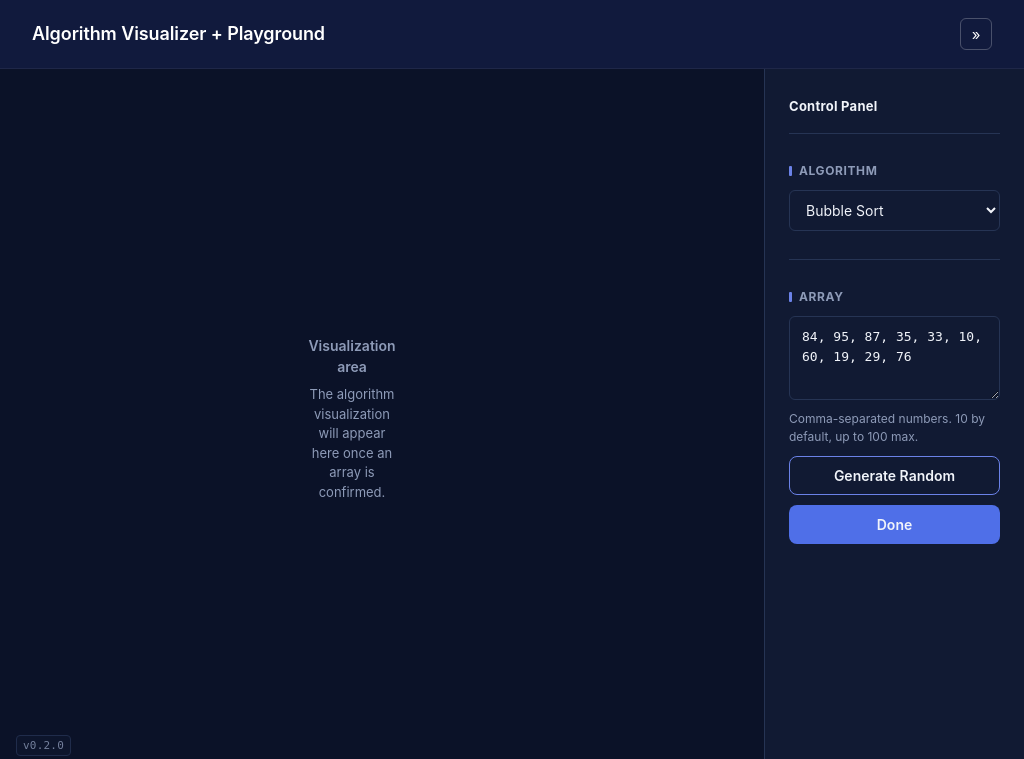
Test case: App — Code View placement › Statistics remains in the main visualization region alongside Code View, unmodified in behavior
Replace the text in the text box labelled "Array" with "8, 3, 5, 1" at (894, 358), box top-left (789, 316), bottom-right (1000, 400)
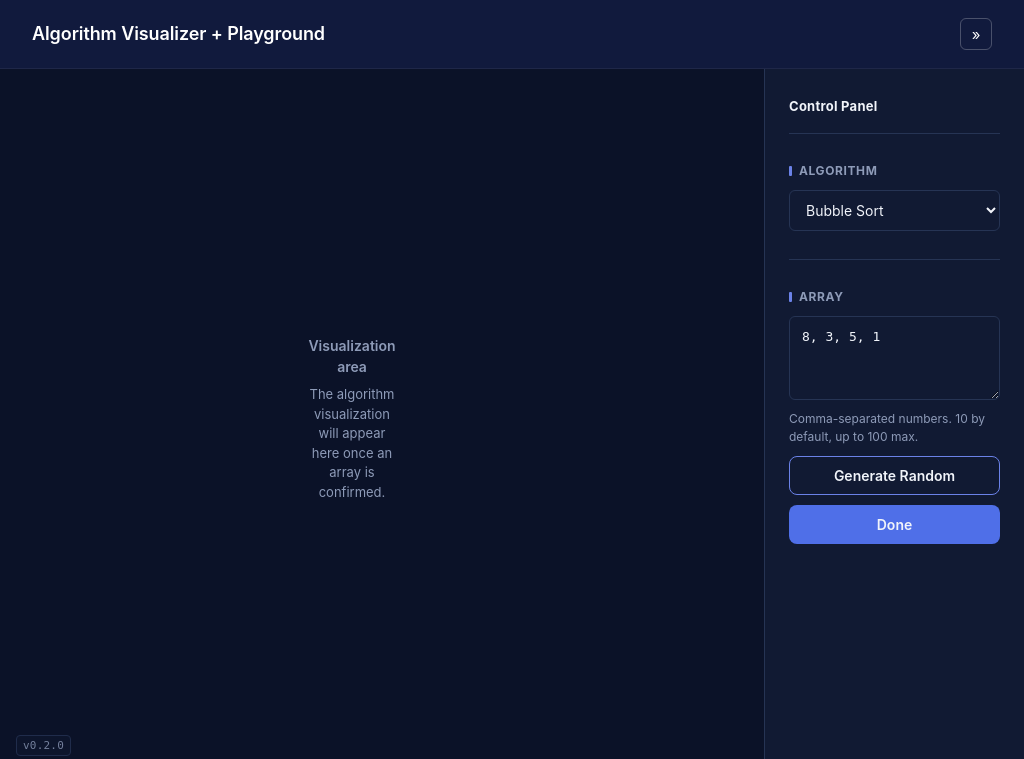
Click the button "Done" at (894, 524), box top-left (789, 505), bottom-right (1000, 544)
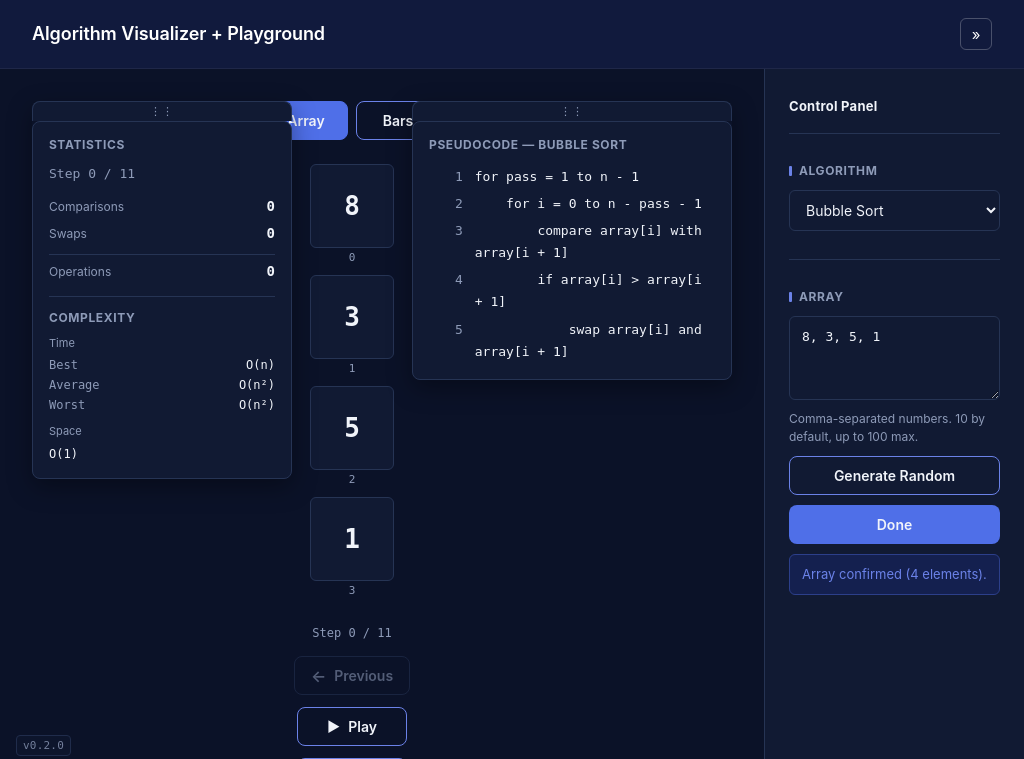
Result: the element with class "statistics-panel" is shown at top-left (32, 121), bottom-right (292, 478)
Result: the element with class "code-view" is shown at top-left (412, 121), bottom-right (732, 380)
